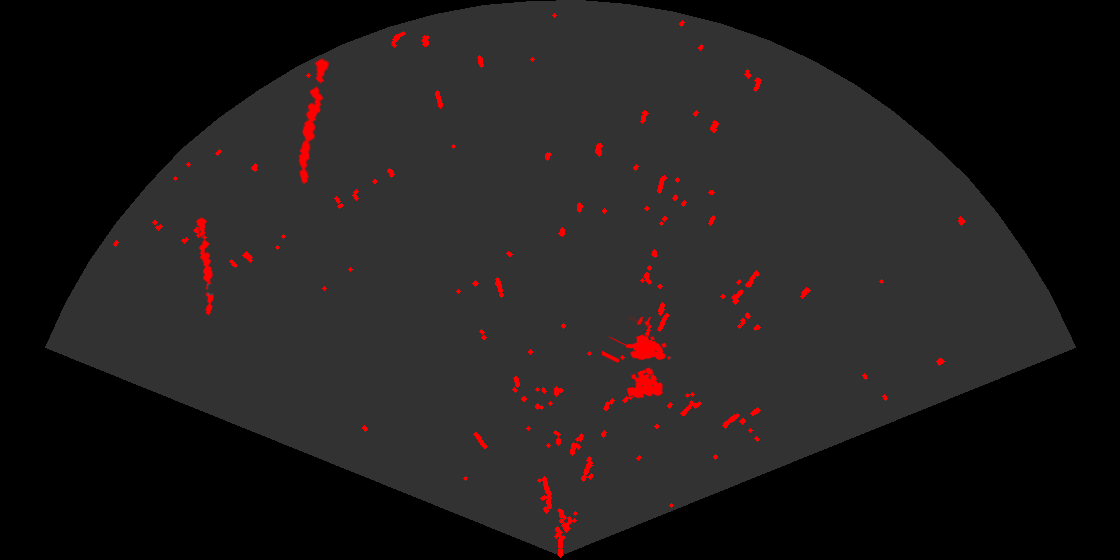cage: (602, 317, 672, 400)
chain: (297, 56, 331, 186), (195, 215, 215, 317)
